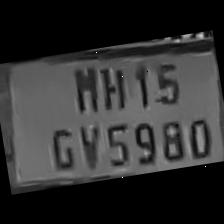0: (180, 110, 216, 162)
1: (125, 57, 153, 110)
5: (148, 52, 184, 106), (98, 116, 133, 168)
8: (154, 112, 188, 164)
9: (127, 114, 161, 167)
G: (42, 120, 80, 172)
H: (94, 58, 130, 113)
M: (66, 58, 102, 116)
V: (73, 118, 106, 170)
